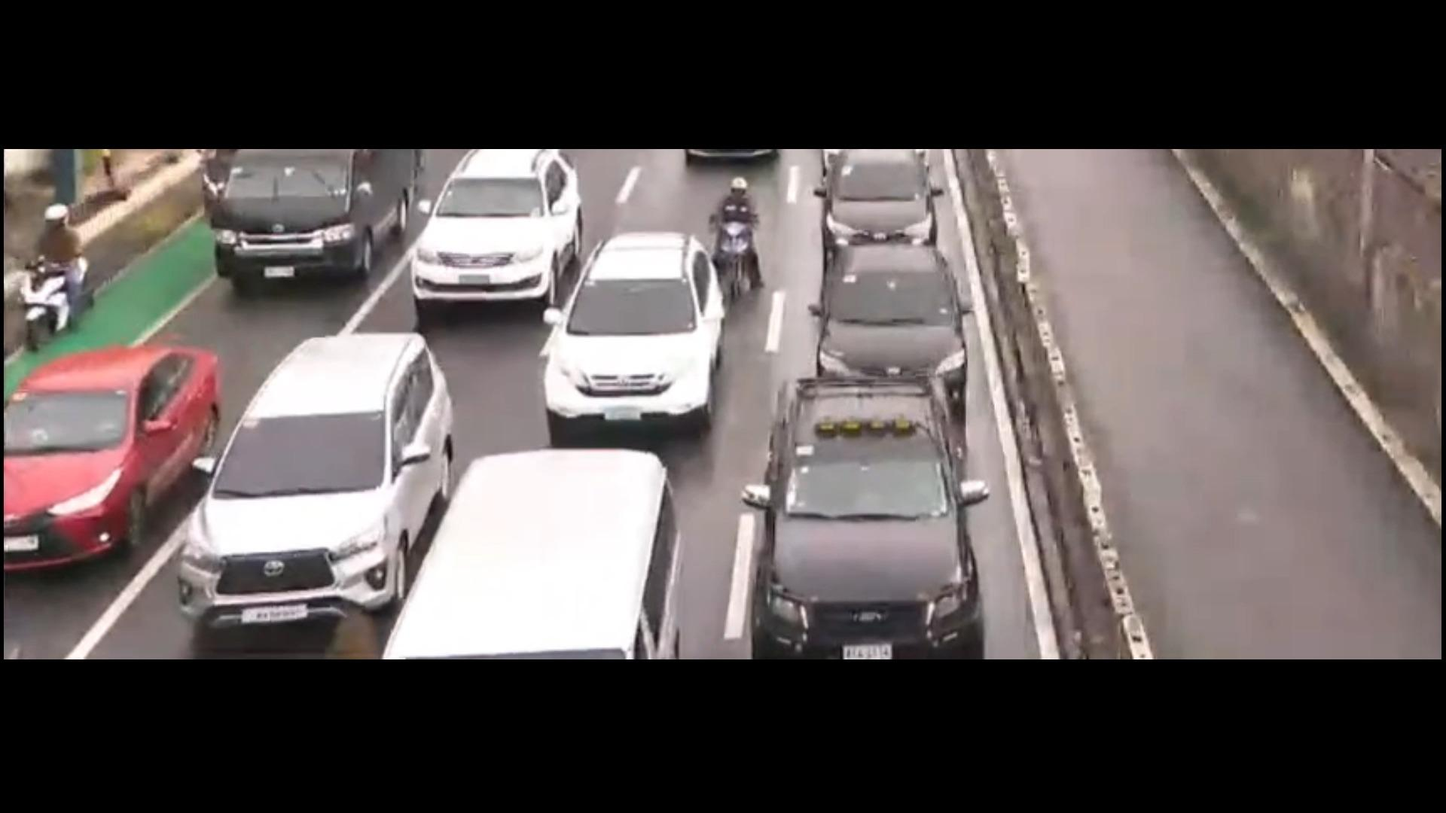Motorcycle: (0, 206, 102, 349), (703, 187, 799, 309)
SUV: (200, 315, 486, 608), (734, 373, 987, 657), (515, 236, 742, 440), (399, 142, 605, 321), (805, 247, 976, 402), (817, 143, 946, 256)
Sedan: (0, 318, 226, 584)
Van: (378, 437, 697, 661), (207, 142, 429, 300)
